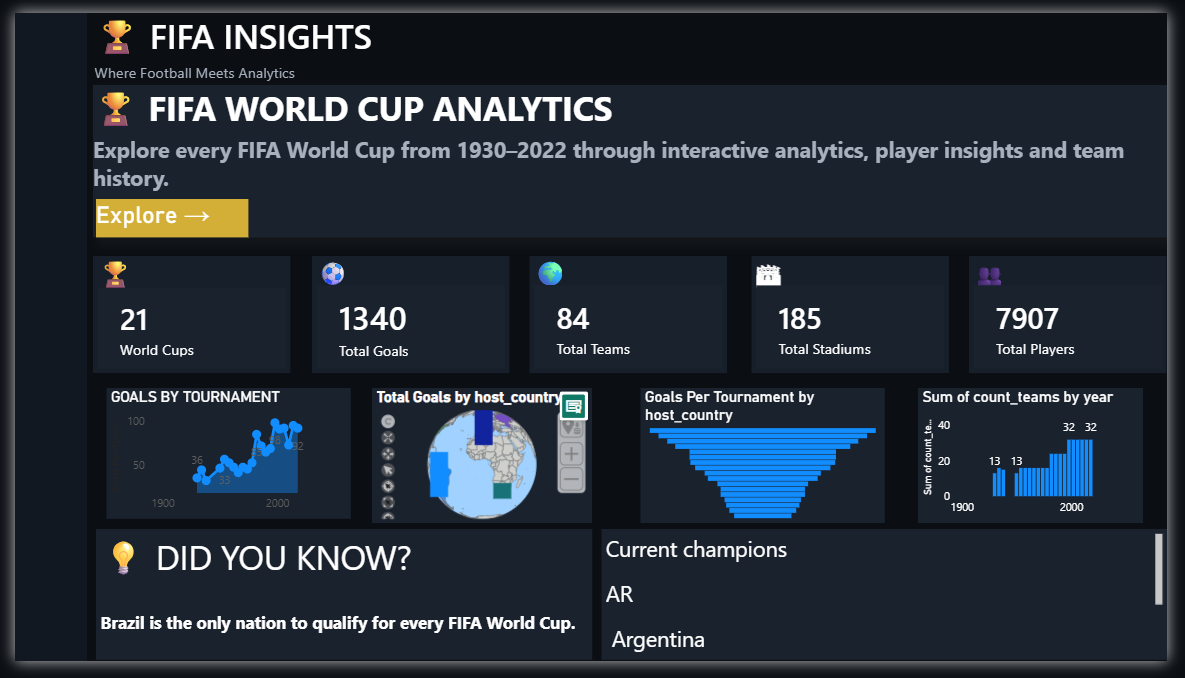

The dashboard page shown, as its layout file describes it:
{"tool":"powerbi","page":{"name":"MATCHDAY","canvas":[1280,720],"ordinal":0},"visuals":[{"type":"shape","title":"🏆 FIFA INSIGHTS","box":[87.5,0,1192.5,80],"z":0},{"type":"shape","box":[0,0,80,720],"z":1000},{"type":"cardVisual","title":"🏆","fields":{"Data":["measures (2).Total Tournaments"]},"box":[86.3,269.5,219.6,130.2],"z":2000},{"type":"cardVisual","title":"⚽","fields":{"Data":["measures (2).Total Goals"]},"box":[330.1,269.5,219.6,130.2],"z":3000},{"type":"cardVisual","title":"🌍 ","fields":{"Data":["measures (2).Total Teams"]},"box":[572.4,269.5,219.6,130.2],"z":4000},{"type":"cardVisual","title":"🏟 ","fields":{"Data":["measures (2).Total Stadiums"]},"box":[817.7,269.5,219.6,130.2],"z":5000},{"type":"cardVisual","title":"👥 ","fields":{"Data":["measures (2).Total Players"]},"box":[1059.9,269.5,219.6,130.2],"z":6000},{"type":"textbox","box":[651.1,573.9,628.4,145.4],"z":7000},{"type":"textbox","box":[89.3,573.9,551.2,145.4],"z":8000},{"type":"shape","title":"🏆 FIFA WORLD CUP ANALYTICS","box":[86.3,80.3,1193.2,169.6],"z":9000},{"type":"actionButton","title":"Explore →","box":[89.3,207.4,169.6,42.4],"z":10000},{"type":"lineChart","title":"GOALS BY TOURNAMENT","fields":{"Category":["Dim_tournaments.year"],"Y":["measures (2).Goals Per Tournament"]},"box":[101.5,416.4,271,145.4],"z":11000},{"type":"columnChart","fields":{"Category":["Dim_tournaments.year"],"Y":["Sum(Dim_tournaments.count_teams)"]},"box":[1003.9,416.4,249.8,149.9],"z":12000},{"type":"maps","fields":{"measure_chart":["measures (2).Total Goals"],"country":["Dim_tournaments.host_country"]},"box":[396.7,416.4,243.8,149.9],"z":13000},{"type":"funnel","fields":{"Category":["Dim_tournaments.host_country"],"Y":["measures (2).Goals Per Tournament"]},"box":[695,416.4,271,149.9],"z":14000}]}

Visuals, with their boxes in screenshot pixels (x1, y1, x2, y2), scaled from the page's 1280x720 canvas onto the 1185x678 screenshot:
"🏆 FIFA INSIGHTS" shape: <bbox>81, 0, 1184, 75</bbox>
shape: <bbox>0, 0, 74, 677</bbox>
"🏆" cardVisual: <bbox>80, 254, 283, 376</bbox>
"⚽" cardVisual: <bbox>306, 254, 509, 376</bbox>
"🌍 " cardVisual: <bbox>530, 254, 733, 376</bbox>
"🏟 " cardVisual: <bbox>757, 254, 960, 376</bbox>
"👥 " cardVisual: <bbox>981, 254, 1184, 376</bbox>
textbox: <bbox>603, 540, 1184, 677</bbox>
textbox: <bbox>83, 540, 593, 677</bbox>
"🏆 FIFA WORLD CUP ANALYTICS" shape: <bbox>80, 76, 1184, 235</bbox>
"Explore →" actionButton: <bbox>83, 195, 240, 235</bbox>
"GOALS BY TOURNAMENT" lineChart: <bbox>94, 392, 345, 529</bbox>
columnChart - Dim_tournaments.year x Sum(Dim_tournaments.count_teams): <bbox>929, 392, 1161, 533</bbox>
maps - measures (2).Total Goals x Dim_tournaments.host_country: <bbox>367, 392, 593, 533</bbox>
funnel - Dim_tournaments.host_country x measures (2).Goals Per Tournament: <bbox>643, 392, 894, 533</bbox>
